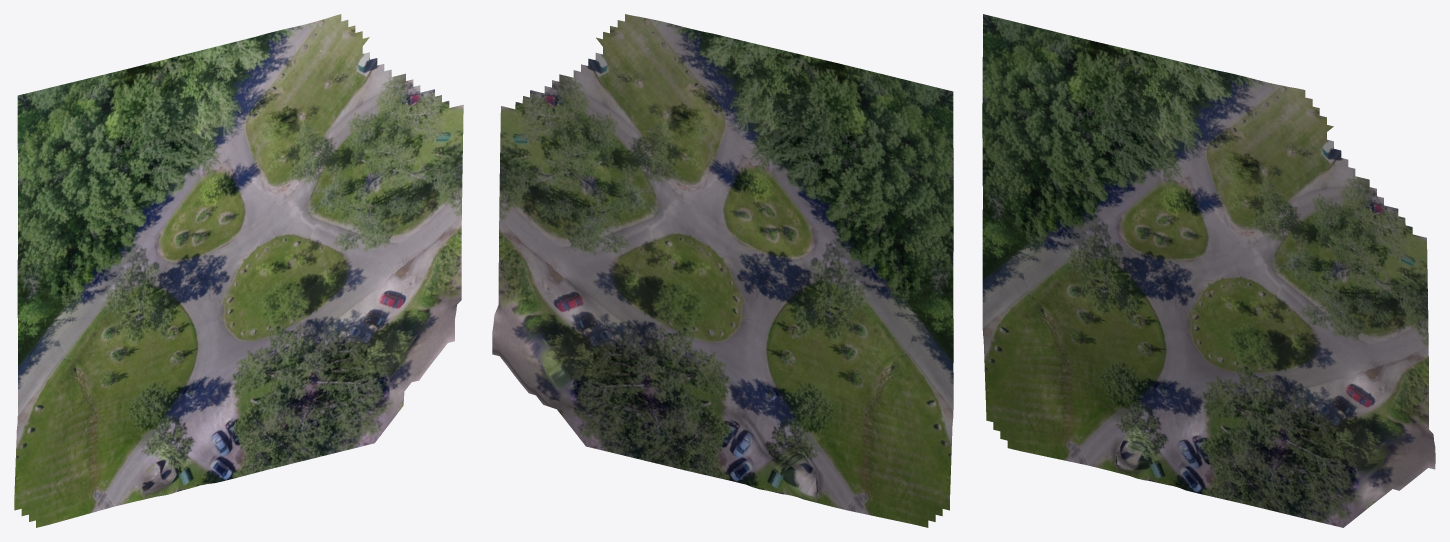
The model's file is odm_textured_model.obj.
The picture shows the model from 3 angles, left to right: view 1: azimuth 30°, elevation 25°; view 2: azimuth 150°, elevation 25°; view 3: azimuth 330°, elevation 25°; orthographic projection. The views are drawn at different scales.
Size of the model in its own units: 82.01 by 76.72 by 4.37.
1 material, 1 textured.
